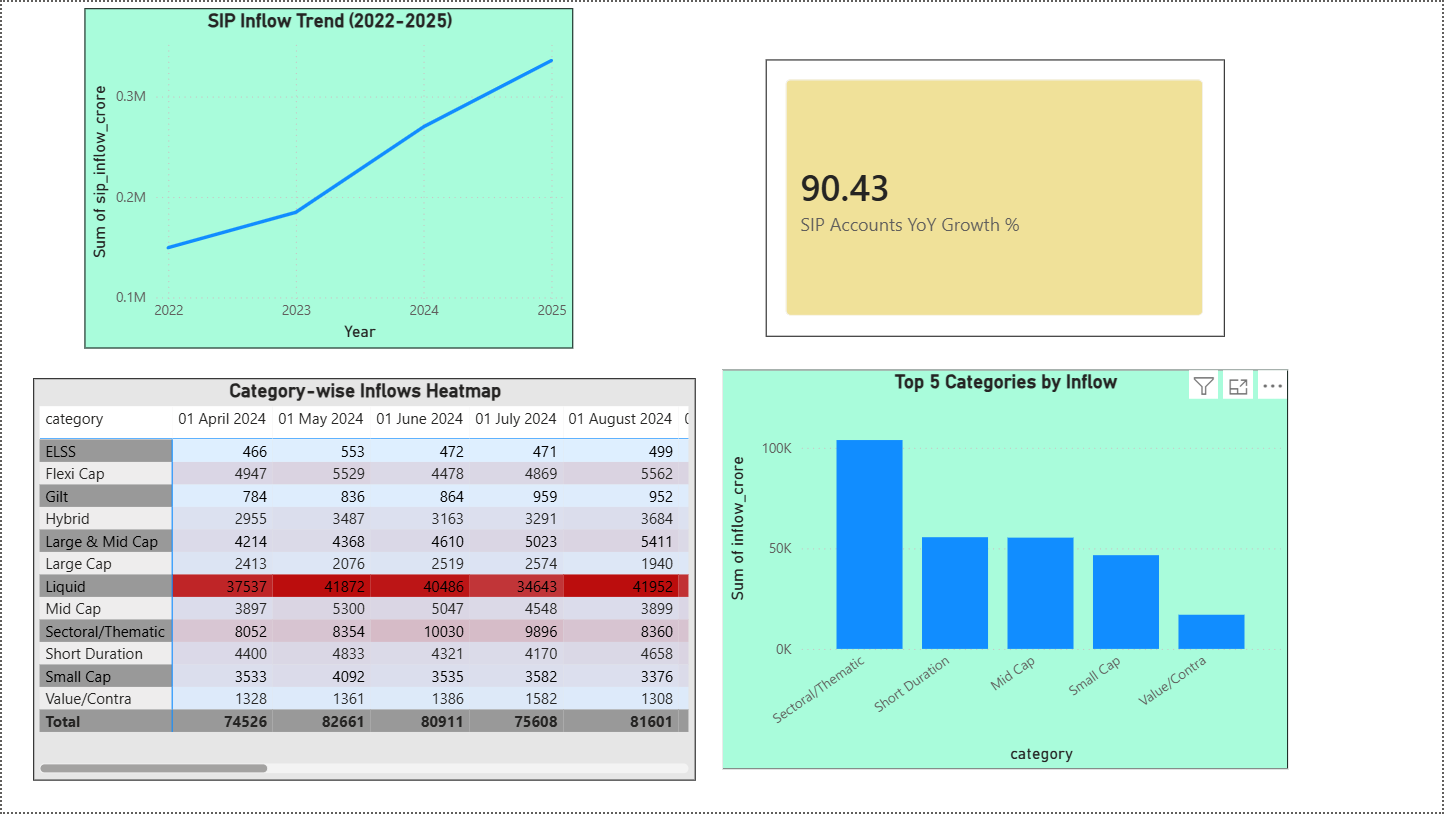

The page's visual inventory and layout, read from the dashboard file:
{"tool":"powerbi","page":{"name":"Market Trends","canvas":[1280,720],"ordinal":3},"visuals":[{"type":"lineChart","title":"SIP Inflow Trend (2022-2025)","fields":{"Category":["clean_monthly_sip_inflows.month.Variation.Date Hierarchy.Year","clean_monthly_sip_inflows.month.Variation.Date Hierarchy.Quarter","clean_monthly_sip_inflows.month.Variation.Date Hierarchy.Month","clean_monthly_sip_inflows.month.Variation.Date Hierarchy.Day"],"Y":["Sum(clean_monthly_sip_inflows.sip_inflow_crore)"]},"box":[73.3,5.6,434.4,302.2],"z":0},{"type":"columnChart","title":"Top 5 Categories by Inflow","fields":{"Category":["clean_category_inflows.category"],"Y":["Sum(clean_category_inflows.inflow_crore)"]},"box":[640,326.7,503.3,355.6],"z":1000},{"type":"pivotTable","title":"Category-wise Inflows Heatmap","fields":{"Rows":["clean_category_inflows.category"],"Columns":["clean_category_inflows.month"],"Values":["Sum(clean_category_inflows.inflow_crore)"]},"box":[27.8,334.4,588.9,357.8],"z":2000},{"type":"cardVisual","fields":{"Data":["clean_monthly_sip_inflows.SIP Accounts YoY Growth %"]},"box":[678.9,51.1,407.8,246.7],"z":3000}]}

Visuals, with their boxes in screenshot pixels (x1, y1, x2, y2), scaled from the page's 1280x720 canvas onto the 1444x814 screenshot:
"SIP Inflow Trend (2022-2025)" lineChart: box=[83, 6, 573, 348]
"Top 5 Categories by Inflow" columnChart: box=[722, 369, 1290, 771]
"Category-wise Inflows Heatmap" pivotTable: box=[31, 378, 696, 783]
cardVisual - clean_monthly_sip_inflows.SIP Accounts YoY Growth %: box=[766, 58, 1226, 337]
